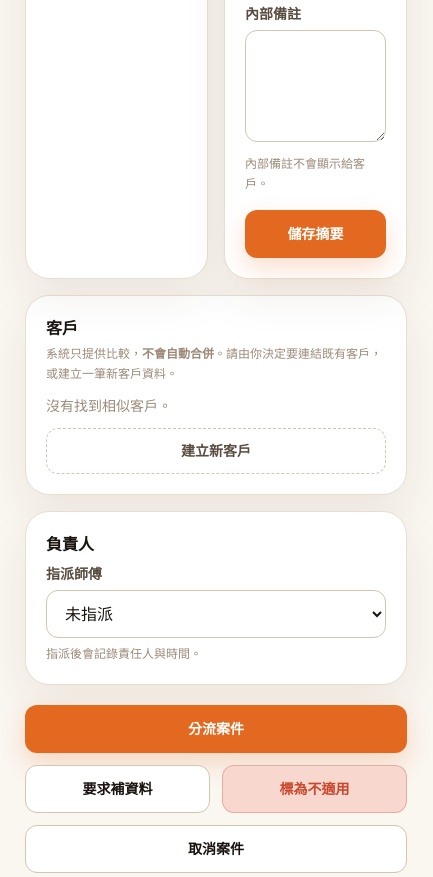
Test: PilotRequestDetail › creates and persists a real customer before binding it
(page scrolled)
Click the button "建立新客戶" at (216, 450), box [46,428,386,474]
(page scrolled)
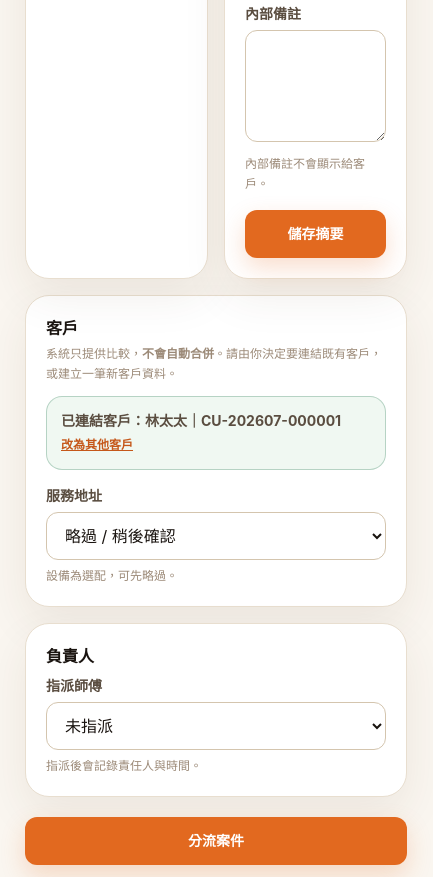
Check: the text "已連結客戶：林太太｜CU-202607-000001" is shown, box [61,410,371,430]
Check: the text "CU-202607-000001" is shown 2 times
Click the button "改為其他客戶" at (97, 444), box [61,436,133,452]
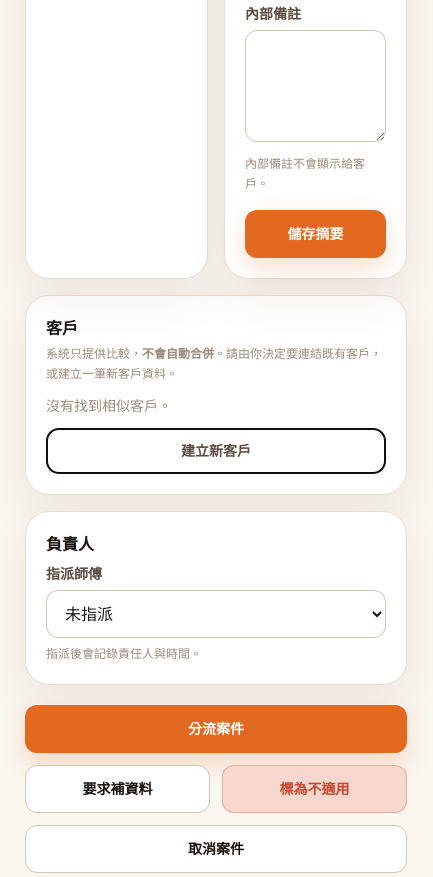
Check: the button "建立新客戶" is shown, box [46,428,386,474]
